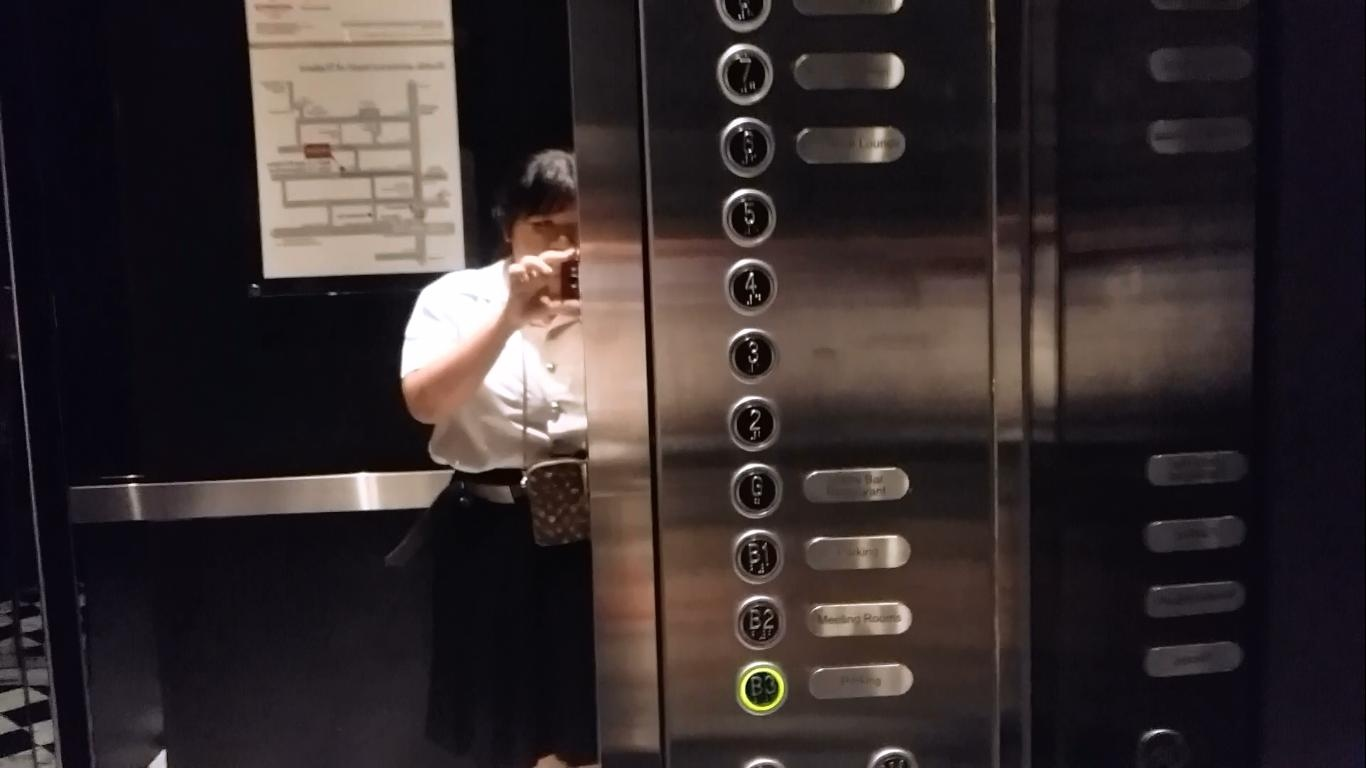2: (727, 393, 781, 452)
3: (726, 326, 780, 383)
4: (722, 257, 779, 317)
5: (723, 187, 777, 247)
6: (720, 114, 777, 180)
7: (715, 41, 776, 107)
B1: (733, 527, 783, 585)
B2: (732, 594, 786, 650)
B3: (737, 660, 787, 713)
G: (728, 461, 784, 518)
